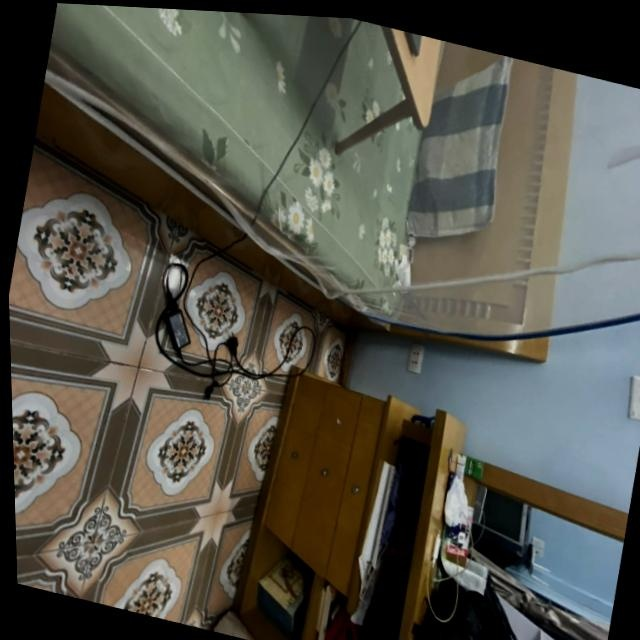outlet: (405, 342, 424, 375)
